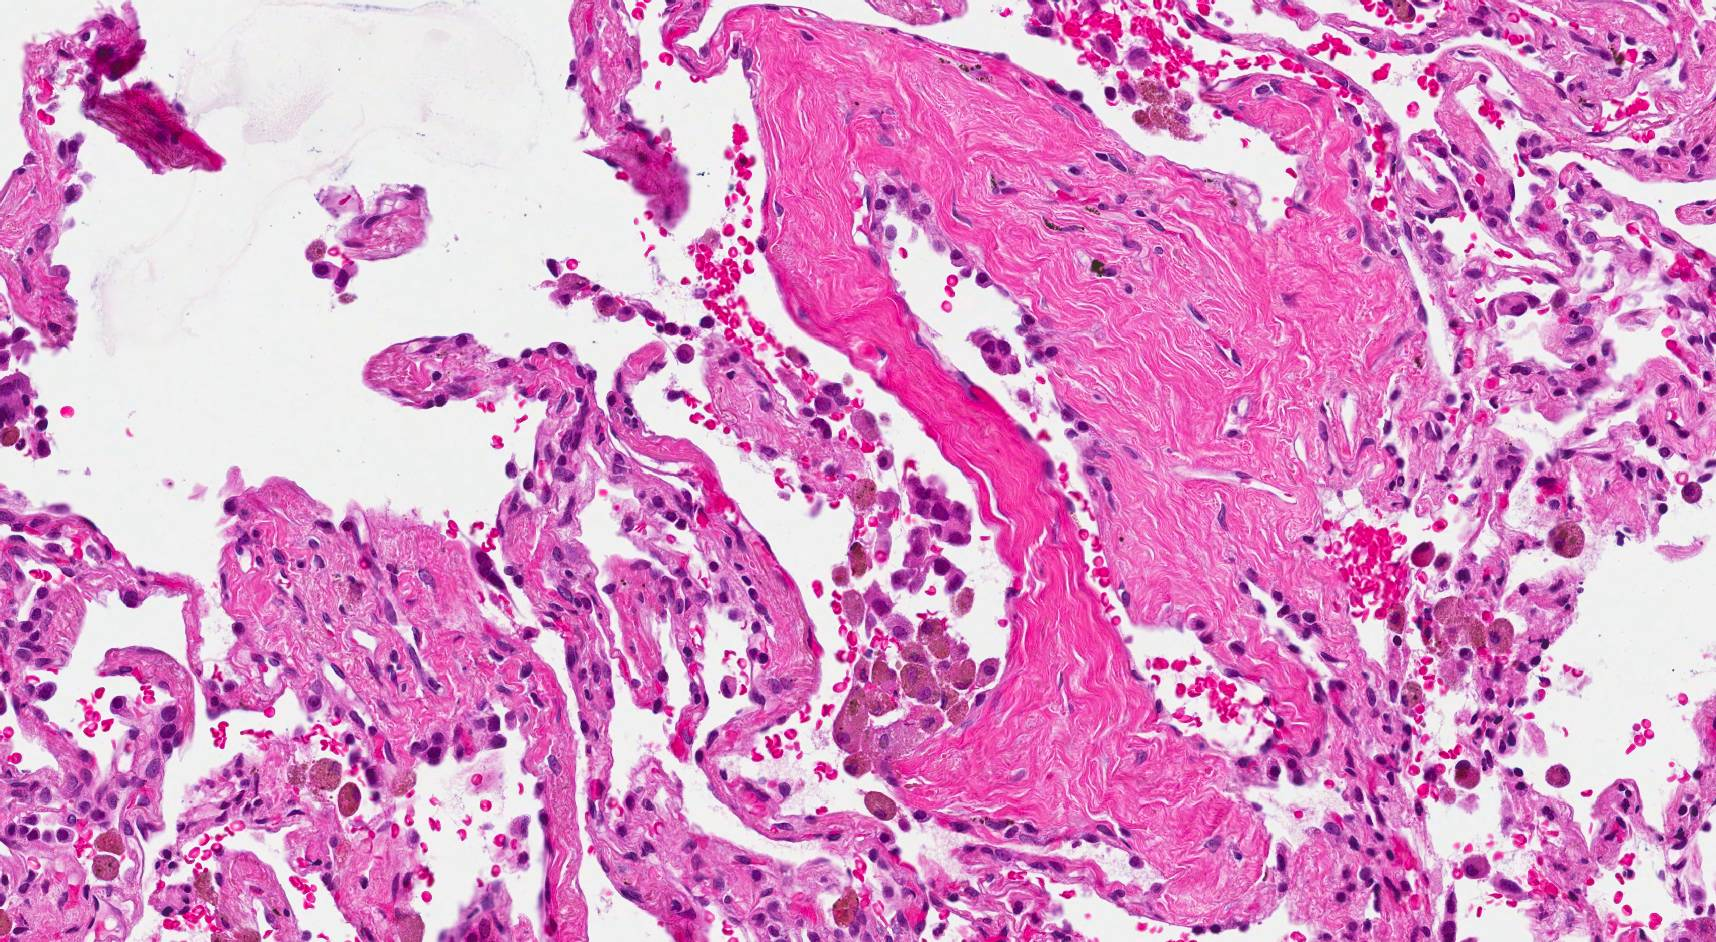stas: (887, 469, 972, 594), (864, 578, 925, 661), (965, 324, 1025, 379), (806, 373, 855, 420), (1495, 283, 1547, 324)
